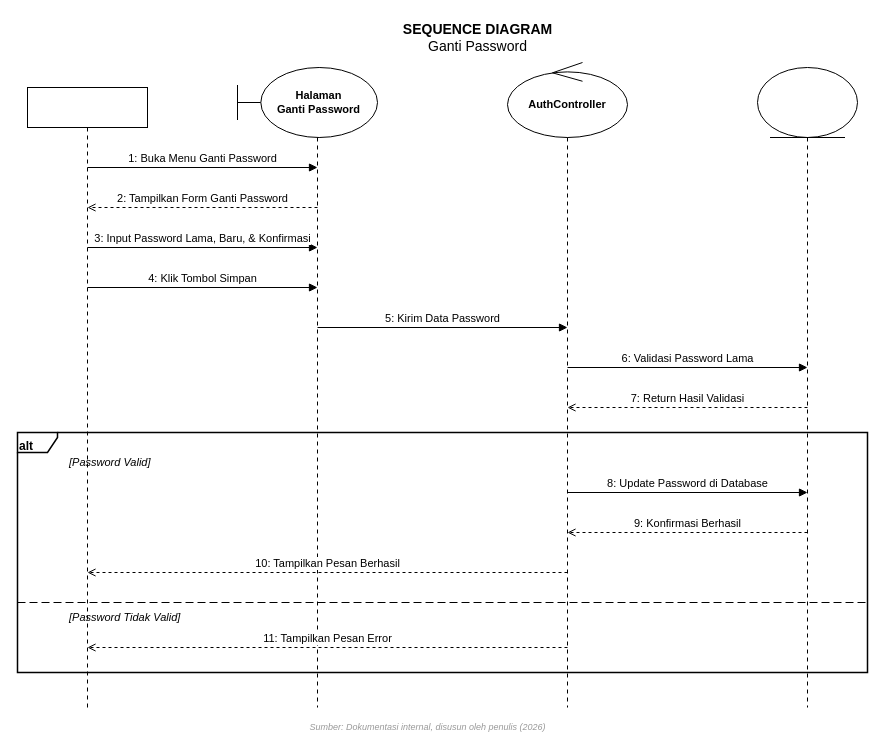
This 886x754 diagram has some shape labels left out. Each missing label, with the box of its shape:
Database: (756, 66, 858, 138)
User: (26, 86, 148, 128)
